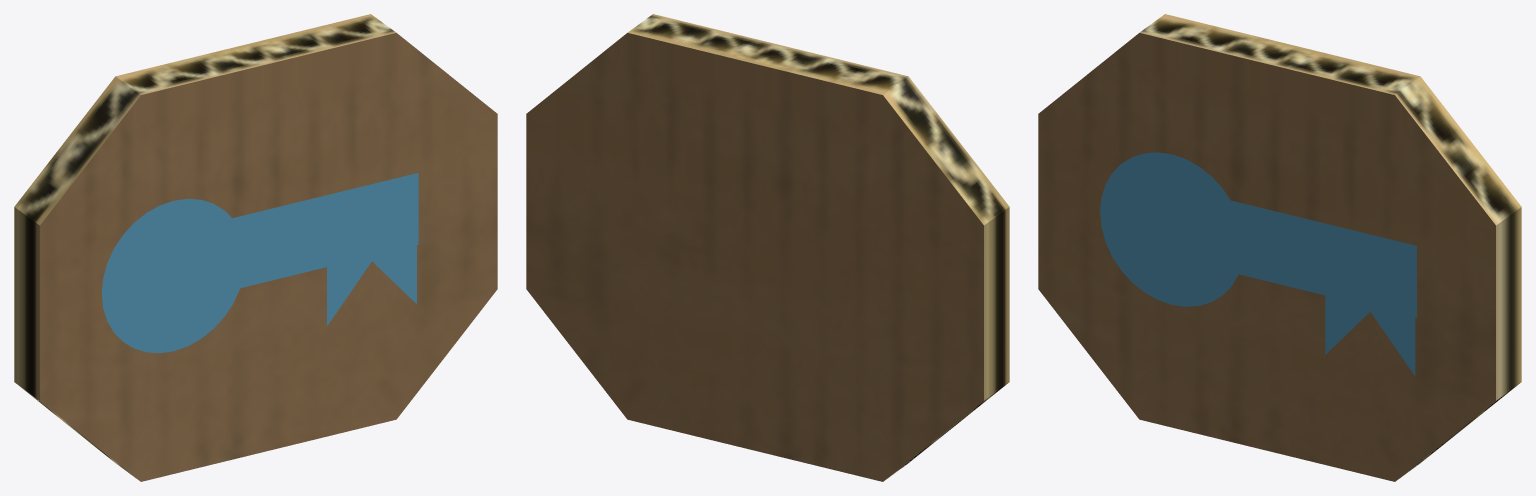
The model's file is cardboard_key.fbx.
The picture shows the model from 3 angles, left to right: view 1: azimuth 30°, elevation 25°; view 2: azimuth 150°, elevation 25°; view 3: azimuth 330°, elevation 25°; orthographic projection.
Parts seen in each view (by area): view 1: pCube7.001; view 2: pCube7.001; view 3: pCube7.001.
Part boxes in pixels (x1,y1,x2,y2): pCube7.001: [14, 14, 497, 481]; pCube7.001: [526, 14, 1009, 481]; pCube7.001: [1038, 14, 1521, 481].
Bounding box in the file's own units: 40.36 × 32.59 × 3.91.
Materials: 1 (1 with a texture image).
